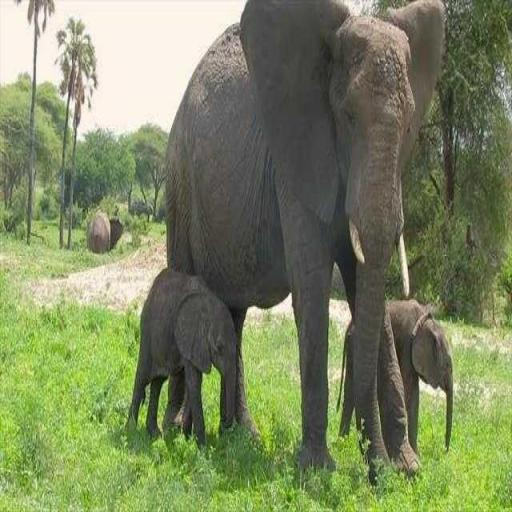Elephant: (163, 0, 448, 483), (124, 266, 238, 448), (337, 296, 453, 458)
